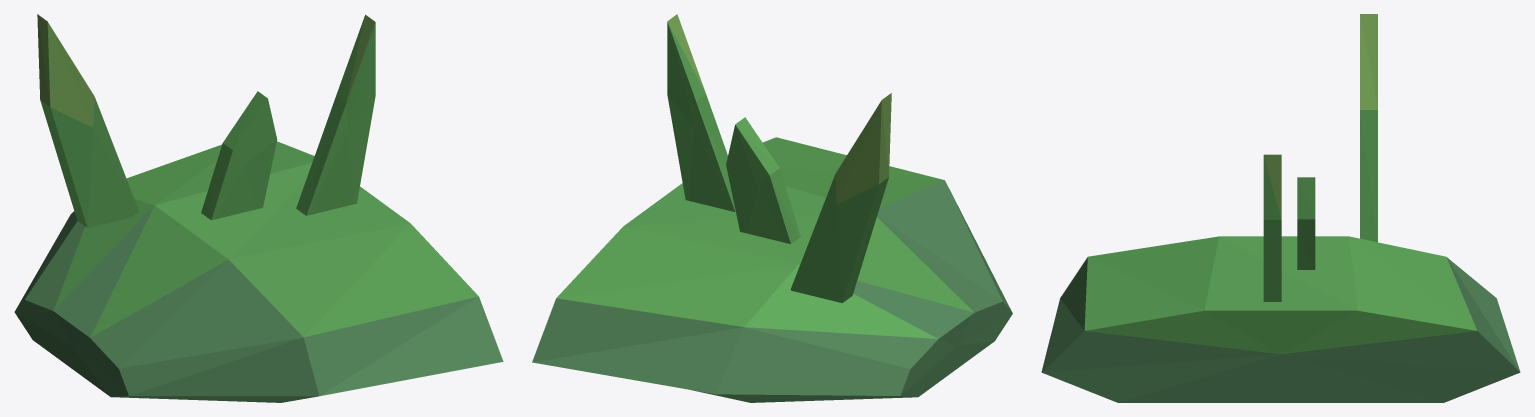
The model's file is ledge_z1_kelp_cap_l.glb.
3 renders of one model, left to right at view 1: azimuth 30°, elevation 25°; view 2: azimuth 150°, elevation 25°; view 3: azimuth 270°, elevation 25°, orthographic. The views are drawn at different scales.
Parts seen in each view (by area): view 1: ledge_z1_kelp_cap_l; view 2: ledge_z1_kelp_cap_l; view 3: ledge_z1_kelp_cap_l.
Part boxes in pixels (x1=…): ledge_z1_kelp_cap_l: x1=14, y1=14, x2=503, y2=402; ledge_z1_kelp_cap_l: x1=532, y1=14, x2=1012, y2=402; ledge_z1_kelp_cap_l: x1=1041, y1=14, x2=1520, y2=402.
Bounding box in the file's own units: 1 × 1 × 1.6.
